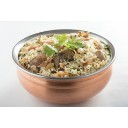briyani: (23, 40, 108, 74)
